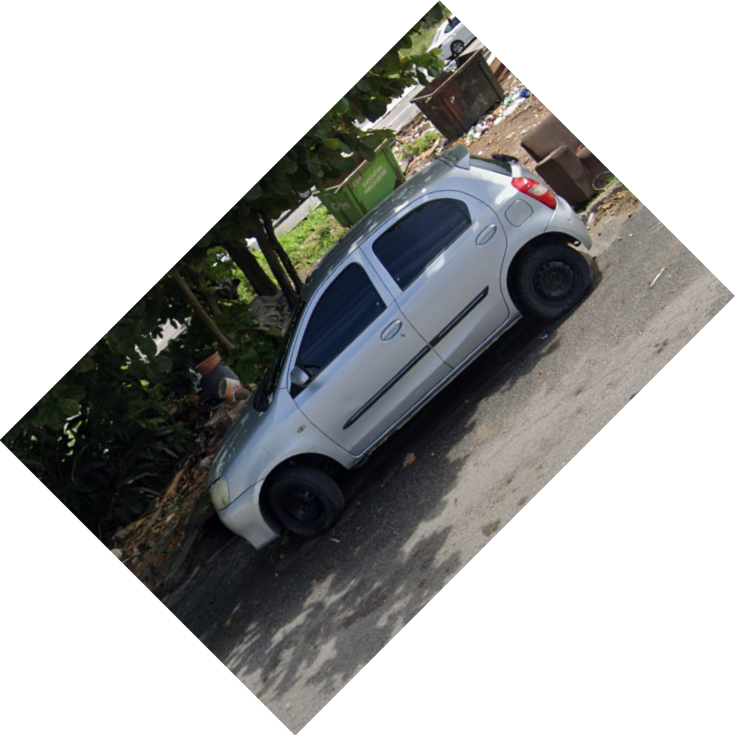car: (203, 143, 595, 559)
